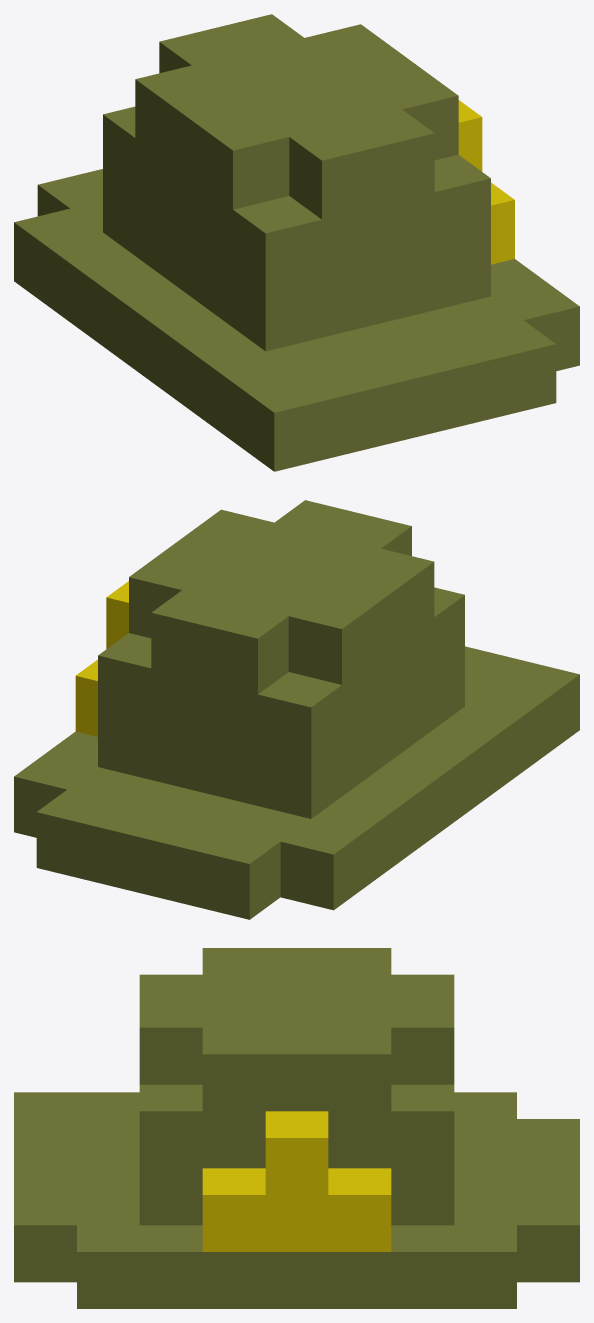
File: Man-7.obj
3 views of the same model, one above another, from view 1: azimuth 30°, elevation 25°; view 2: azimuth 150°, elevation 25°; view 3: azimuth 270°, elevation 25° (orthographic). The views are drawn at different scales.
Size of the model in its own units: 0.6 by 0.4 by 0.9.
Materials: 1 (1 with a texture image).
